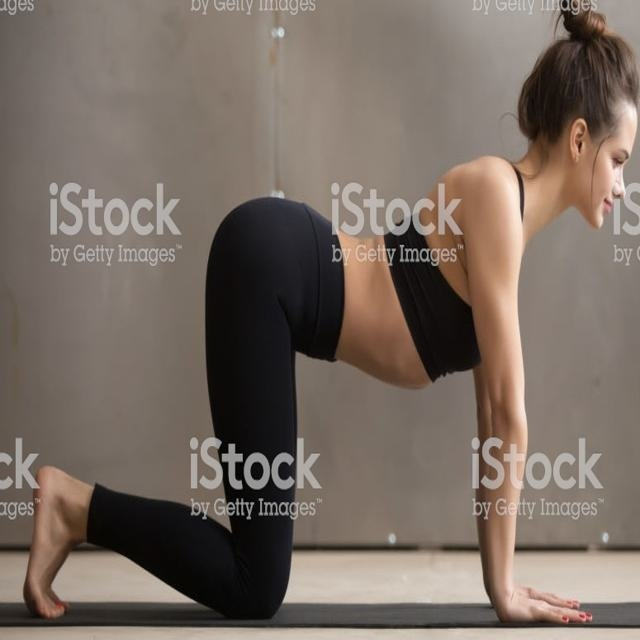Cow_Pose: (22, 31, 636, 625)
